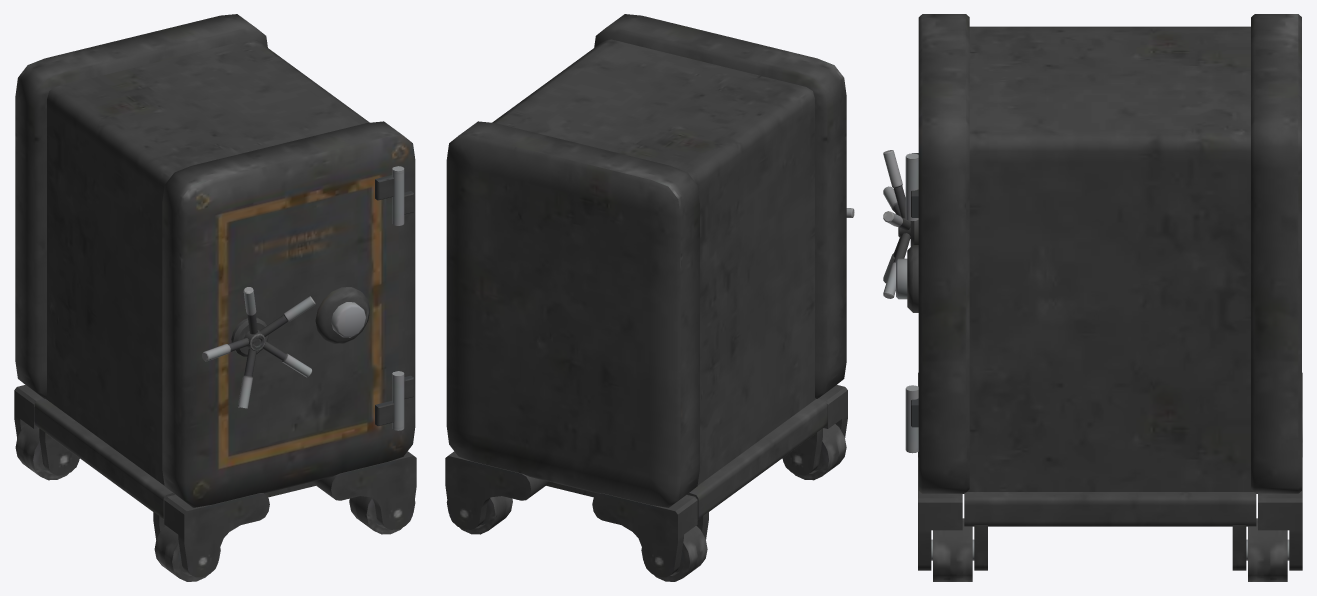
Rendered from s_caja_fuerte.glb.
3 renders of one model, left to right at view 1: azimuth 30°, elevation 25°; view 2: azimuth 150°, elevation 25°; view 3: azimuth 270°, elevation 25°, orthographic. The views are drawn at different scales.
Parts seen in each view (by area): view 1: Safe_LP_M_SafeFrontPanel_0; view 2: Safe_LP_M_SafeFrontPanel_0; view 3: Safe_LP_M_SafeFrontPanel_0.
Part boxes in pixels (x1=…): Safe_LP_M_SafeFrontPanel_0: x1=14, y1=14, x2=416, y2=581; Safe_LP_M_SafeFrontPanel_0: x1=445, y1=14, x2=854, y2=581; Safe_LP_M_SafeFrontPanel_0: x1=883, y1=14, x2=1302, y2=581.
Bounding box in the file's own units: 0.5374 × 0.85 × 0.7085.
Materials: 1 (1 with a texture image).
